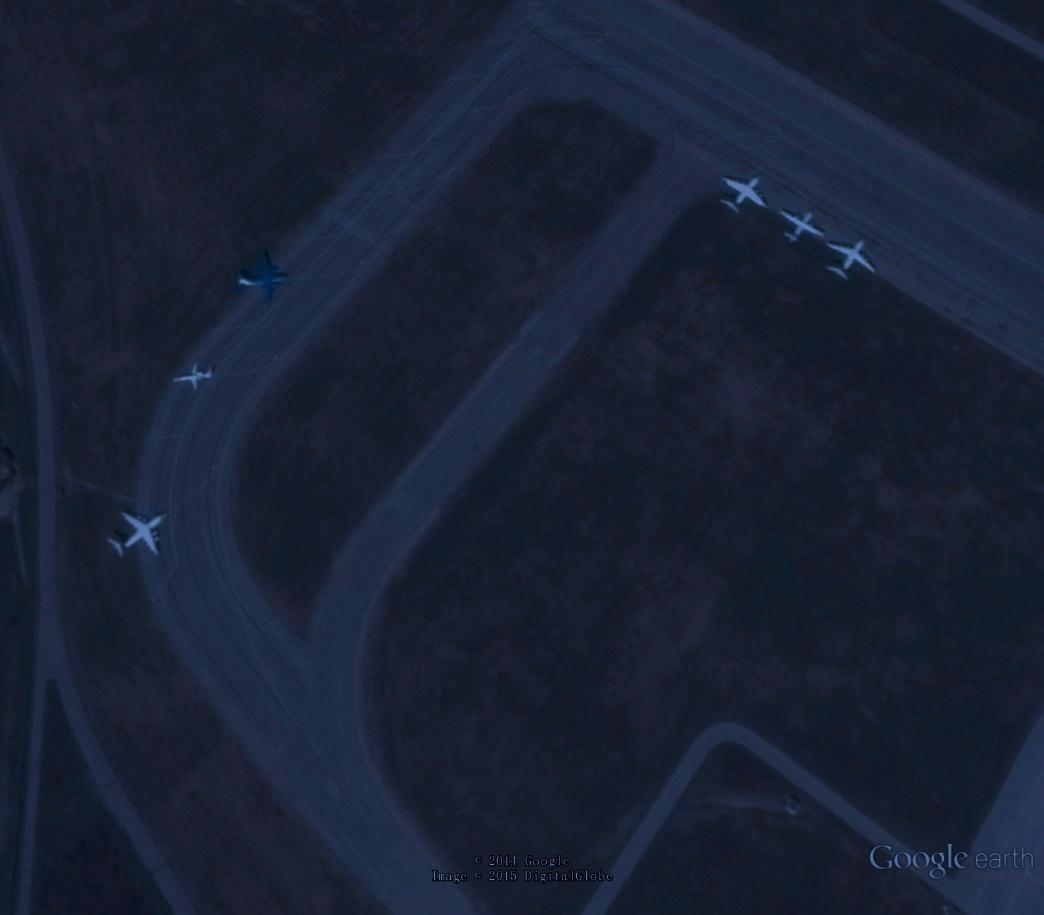aircraft: (105, 504, 172, 567), (232, 246, 294, 309), (822, 231, 883, 286), (714, 166, 771, 220), (775, 204, 829, 249), (168, 360, 217, 399)
